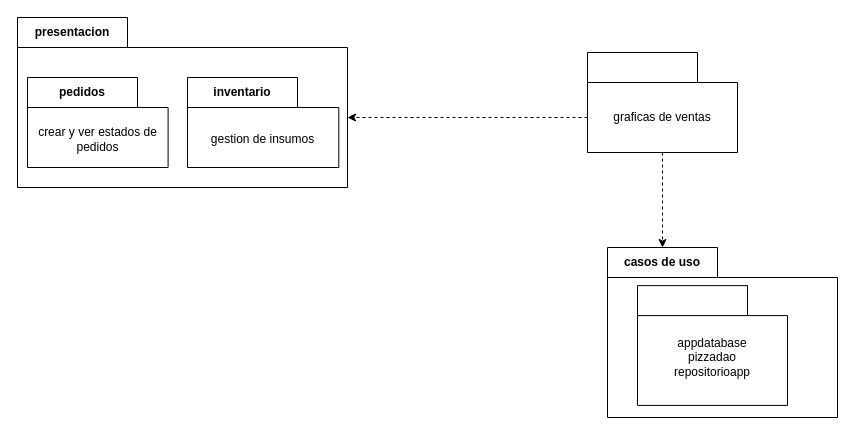
Image size: 855x435. Some labels were removed from this diagram. Here are the shapes that lost their labels. From the top down, the centre of each, then its label:
At [662,102]: "estadisticas".
At [712,345]: "repositorio".
